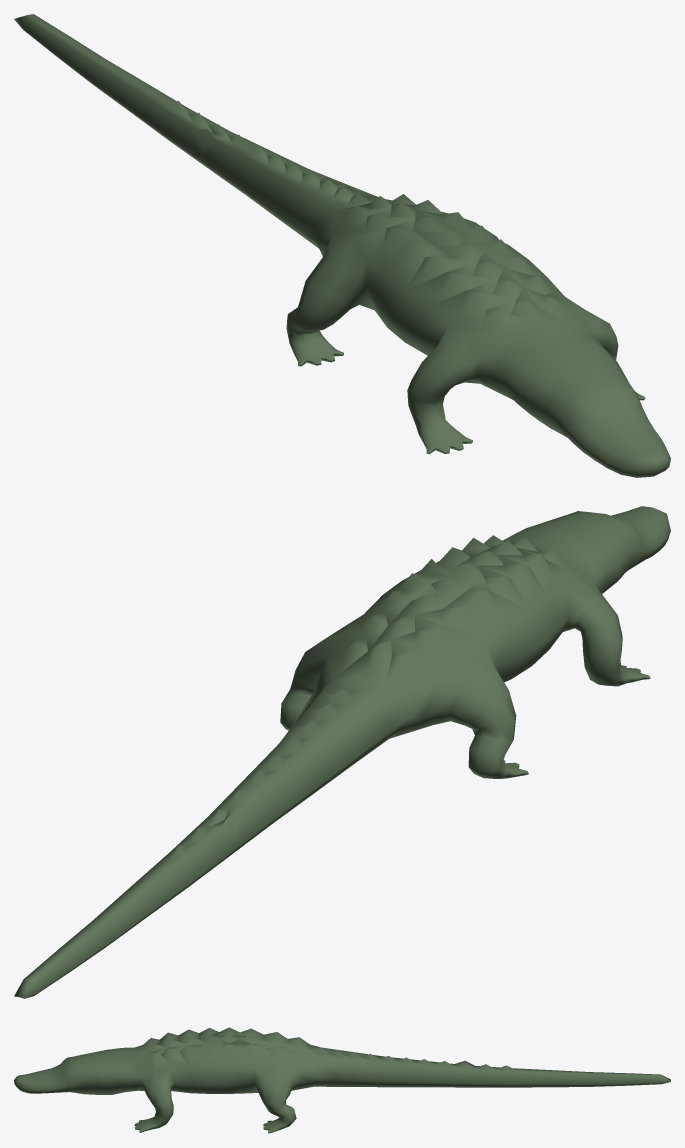
File: coco.fbx
3 renders of one model, top to bottom at view 1: azimuth 30°, elevation 25°; view 2: azimuth 150°, elevation 25°; view 3: azimuth 270°, elevation 25°, orthographic. The views are drawn at different scales.
Visible parts, largest first — view 1: alligator; view 2: alligator; view 3: alligator.
Boxes of the visible parts, <box> form: alligator: <box>14,14,670,477</box>; alligator: <box>14,506,670,998</box>; alligator: <box>14,1027,670,1133</box>.
Bounding box in the file's own units: 0.4861 × 0.276 × 2.32.
